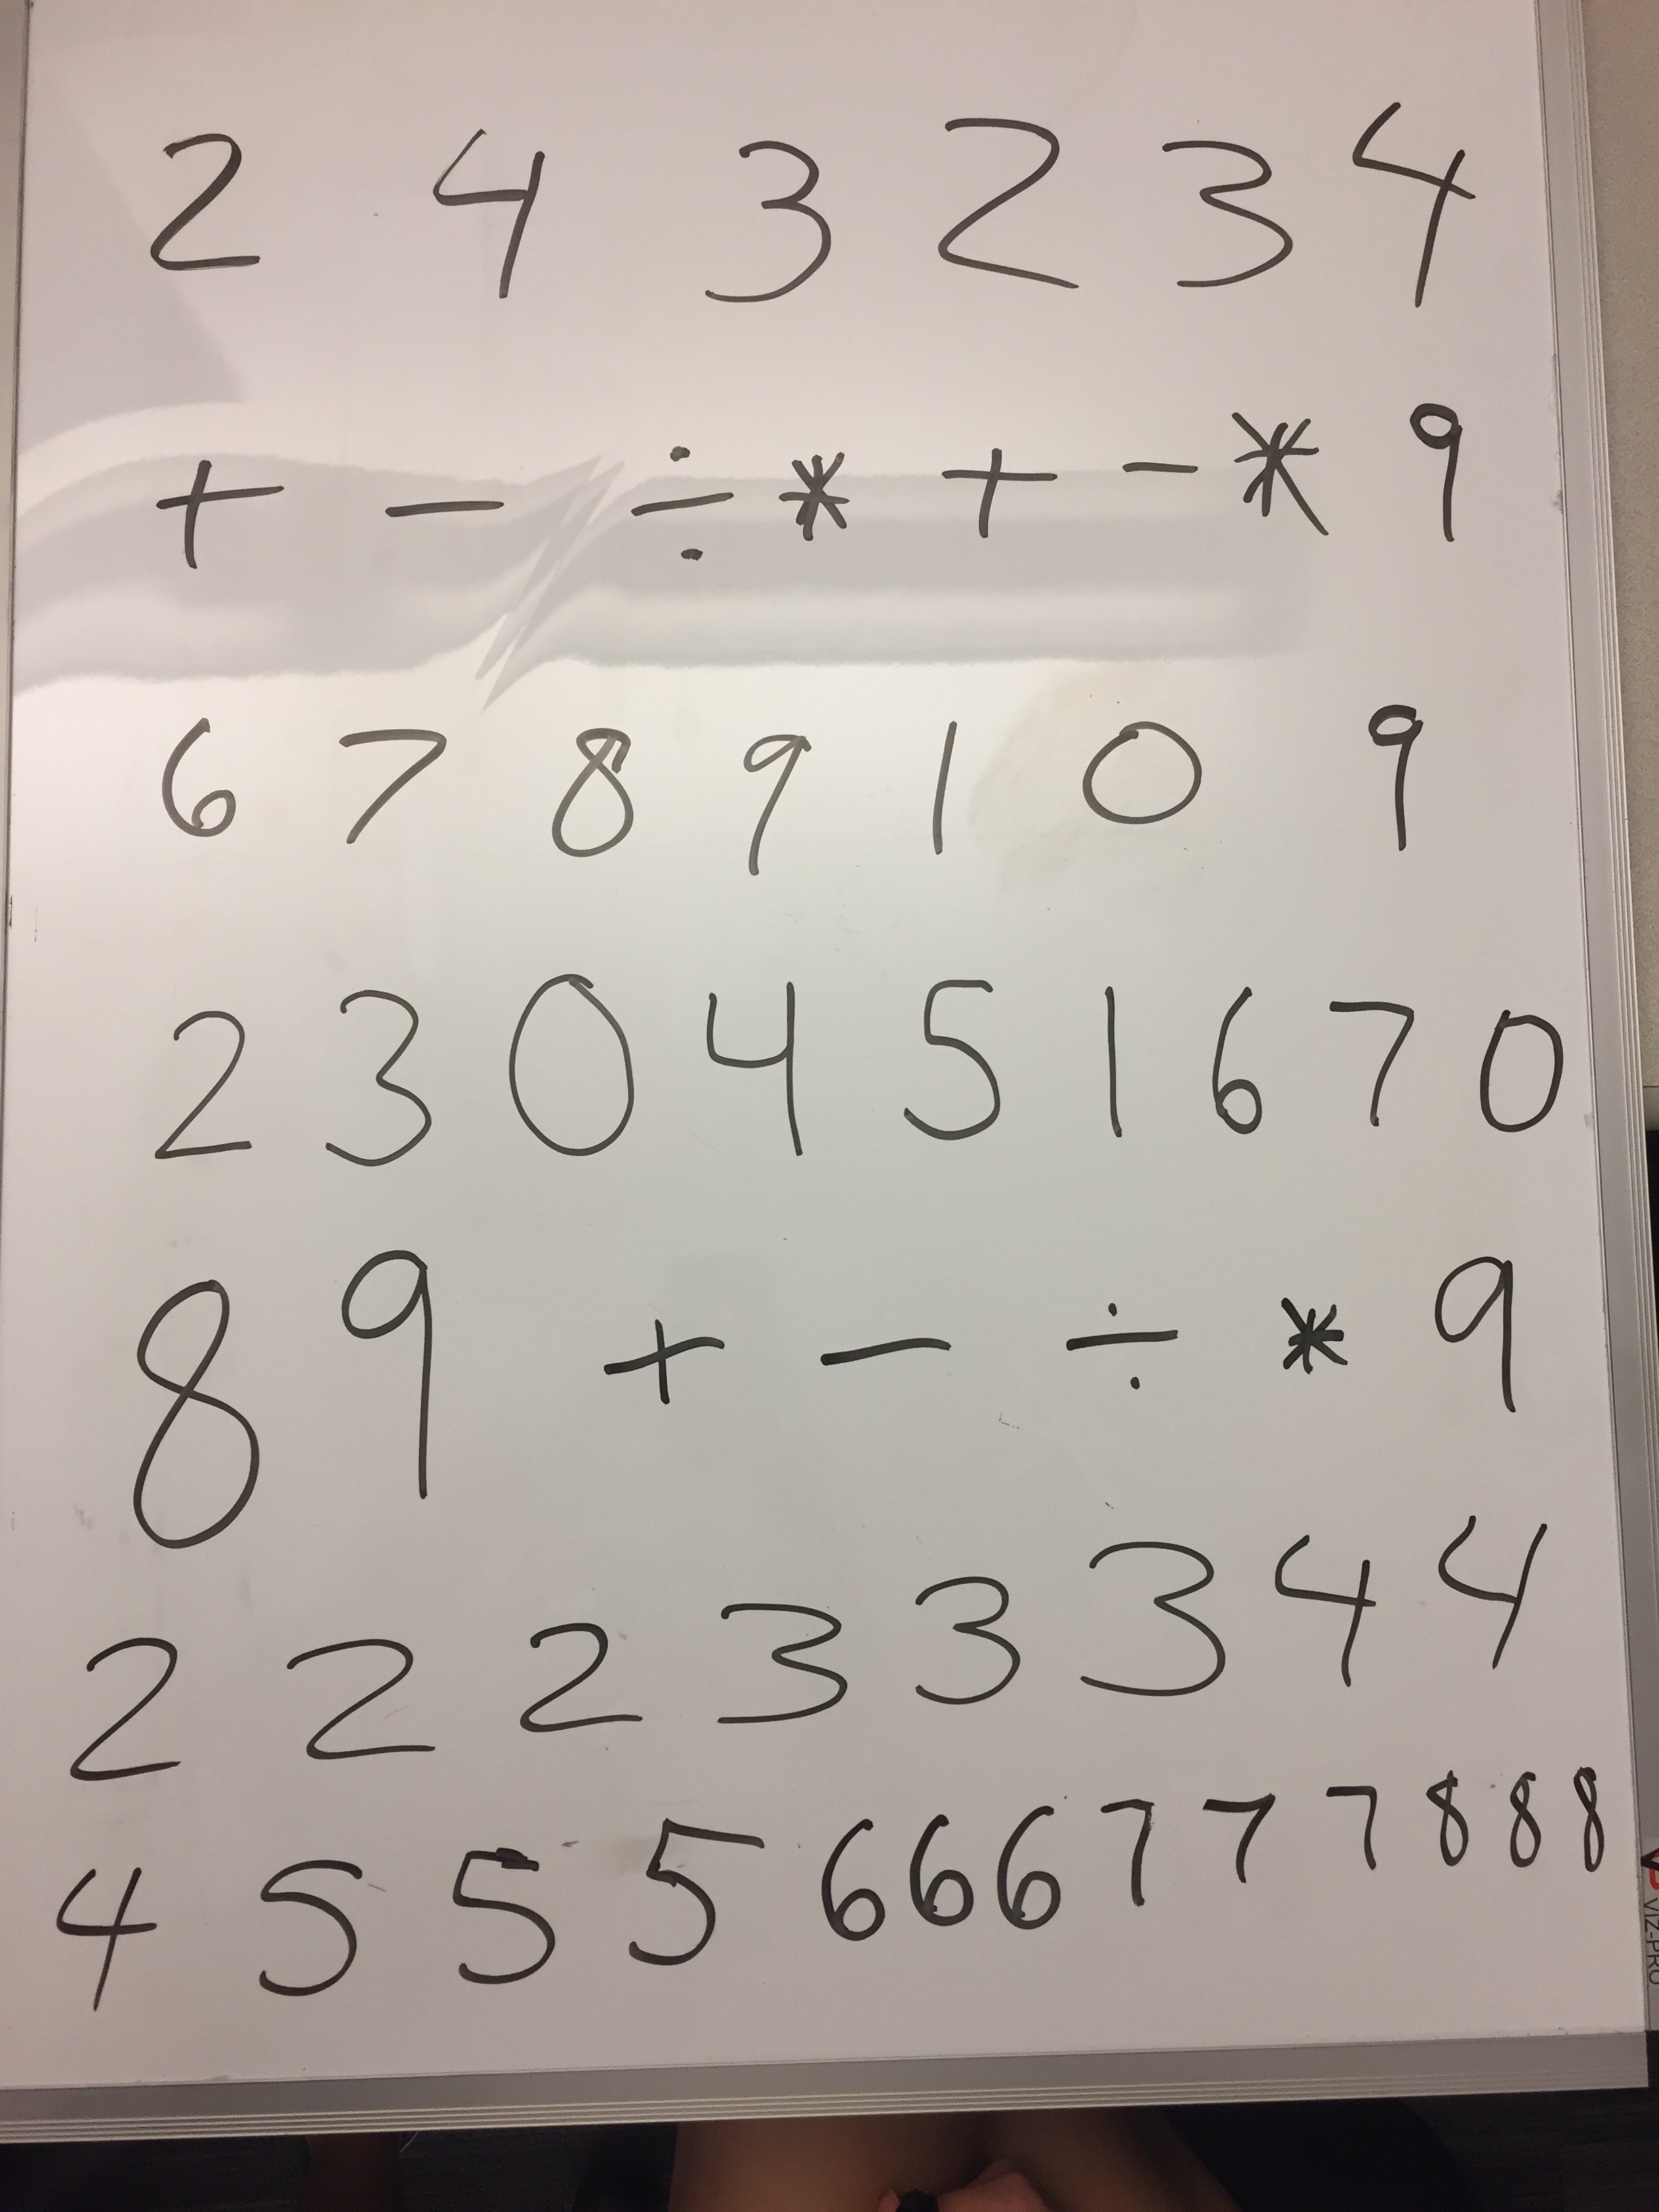+: (108, 428, 301, 604), (586, 1289, 739, 1439), (931, 421, 1070, 564)
-: (362, 442, 528, 564), (802, 1296, 979, 1407), (1098, 415, 1213, 540)
0: (484, 948, 667, 1184), (1056, 679, 1232, 866), (1460, 998, 1582, 1184)
1: (1053, 944, 1152, 1174), (908, 686, 988, 892)
2: (908, 59, 1098, 368), (98, 89, 310, 324), (270, 1618, 457, 1791), (51, 1618, 213, 1808), (134, 977, 263, 1195), (504, 1604, 660, 1766)
3: (1124, 73, 1314, 333), (687, 99, 857, 385), (1060, 1519, 1236, 1723), (308, 967, 443, 1207), (701, 1580, 870, 1743), (894, 1557, 1030, 1733)
4: (406, 96, 599, 354), (1328, 63, 1490, 340), (690, 956, 836, 1188), (1412, 1493, 1568, 1698), (1256, 1515, 1396, 1712), (33, 1851, 176, 2027)
5: (230, 1831, 403, 2041), (617, 1804, 782, 1994), (427, 1818, 579, 2020), (890, 944, 1019, 1174)
6: (131, 693, 267, 873), (1182, 974, 1297, 1153), (798, 1797, 897, 1991), (983, 1777, 1077, 1980), (897, 1797, 988, 1973)
7: (314, 690, 477, 888), (1310, 984, 1436, 1174), (1178, 1759, 1297, 1930), (1077, 1770, 1178, 1949), (1297, 1754, 1403, 1898)
8: (101, 1259, 277, 1571), (538, 700, 657, 887), (1403, 1750, 1490, 1898), (1558, 1737, 1622, 1912), (1493, 1740, 1554, 1912)
9: (331, 1231, 481, 1522), (1419, 1242, 1554, 1435), (1349, 679, 1460, 883), (1378, 371, 1490, 571), (714, 705, 829, 899)
div: (610, 421, 751, 597), (1053, 1278, 1192, 1407)
x: (1206, 392, 1351, 564), (762, 432, 877, 571), (1246, 1275, 1368, 1390)
